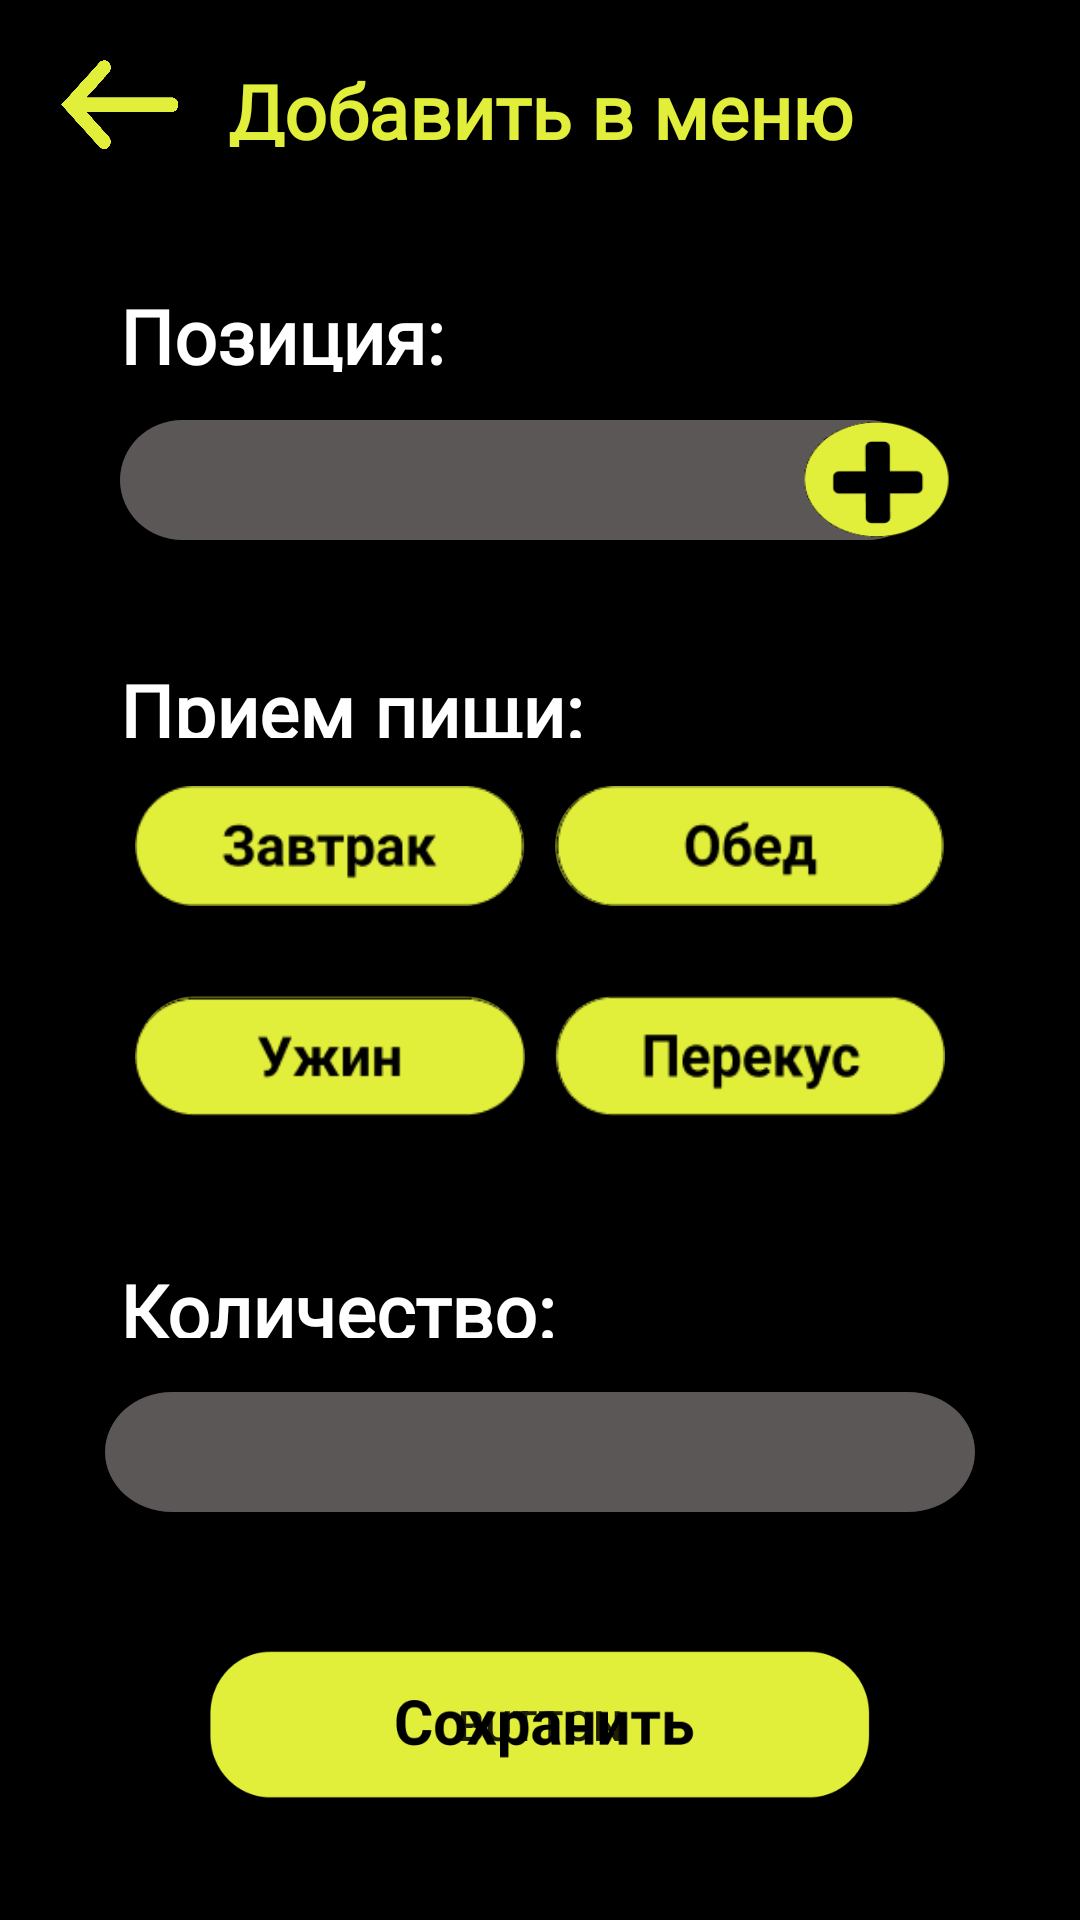

Where to tap for icons on this 1080px x 1920px app screen, as (x=x, y=y):
add: (x=875, y=480)
backgreen: (x=119, y=104)
